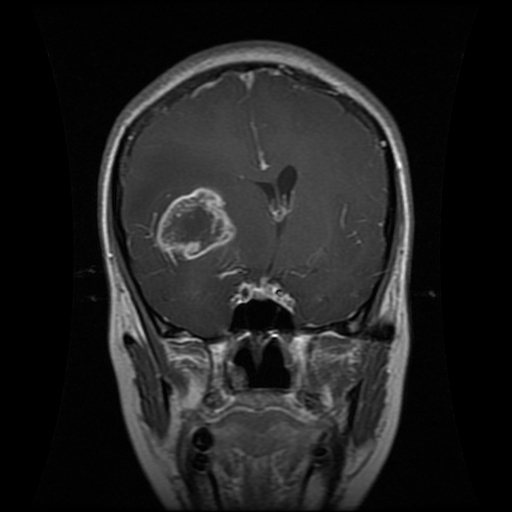glioma: (143, 182, 241, 270)
